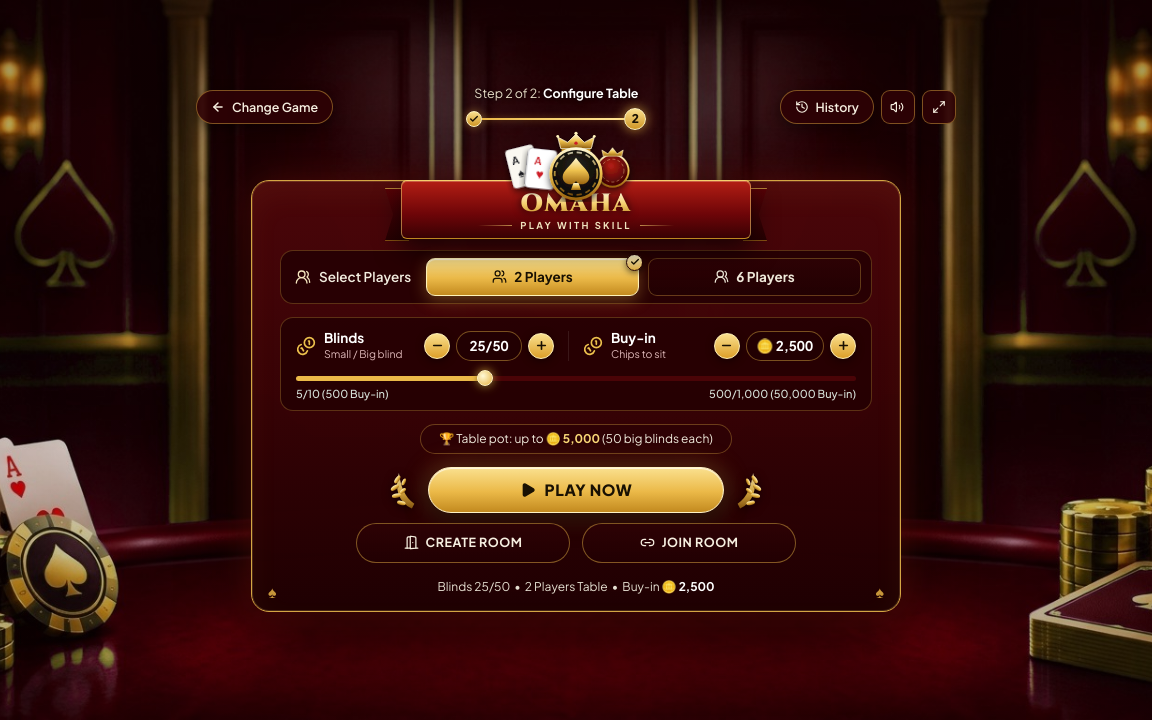
stake setup and matchmaking › shows the finding-table search while queued and cancels back to setup
Click the button "PLAY NOW": (576, 490) [428,467,724,513]
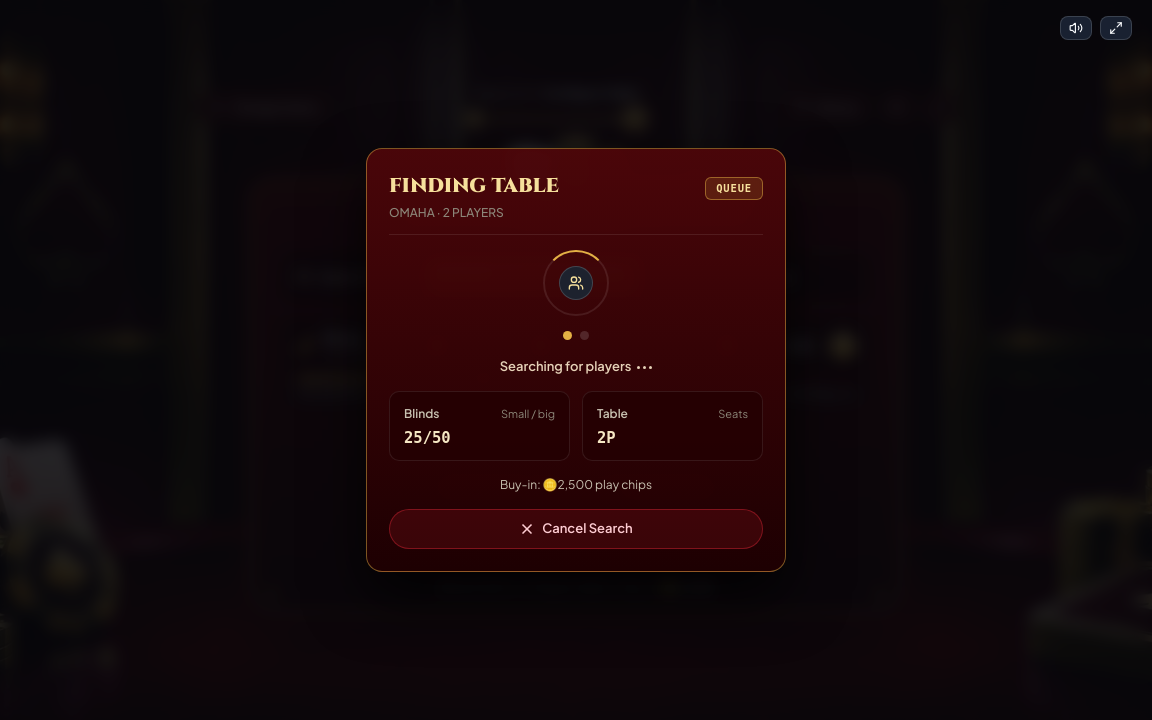
Check: the dialog "FINDING TABLE" is shown
Check: the heading "FINDING TABLE" is shown, box [389,171,559,201]
Click the button "Cancel Search": (576, 529) [389,509,763,549]
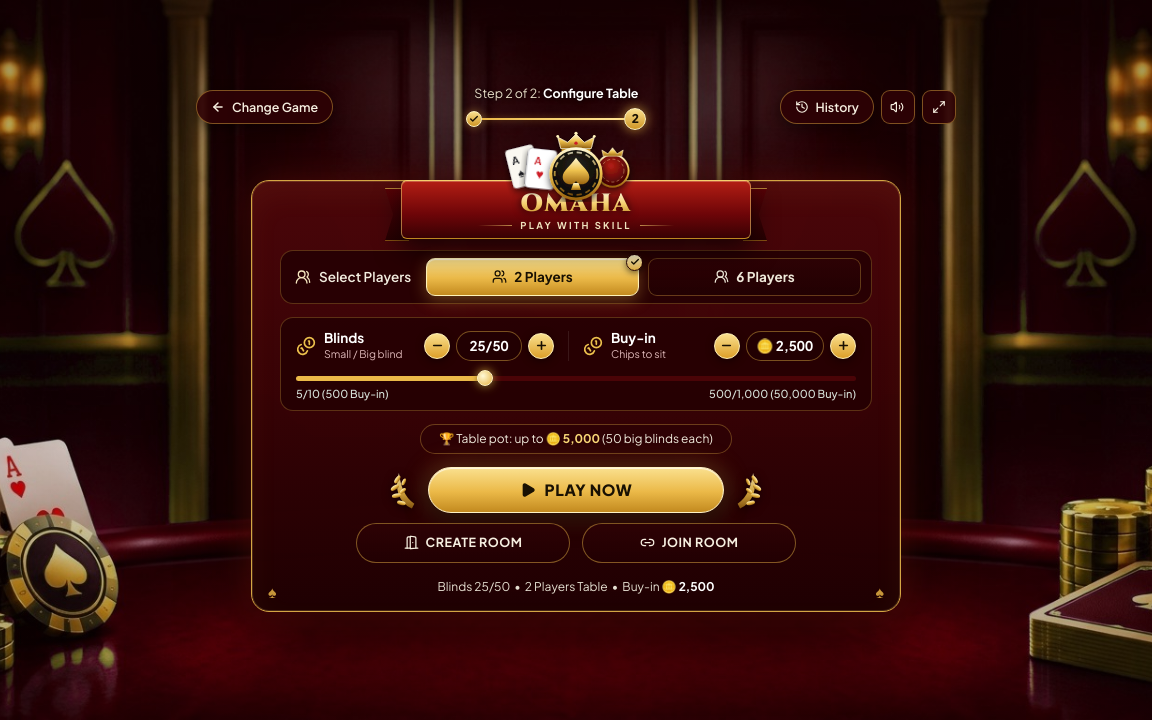
Check: the heading "OMAHA" is shown, box [428,190,724,217]
Check: the heading "FINDING TABLE" is gone
